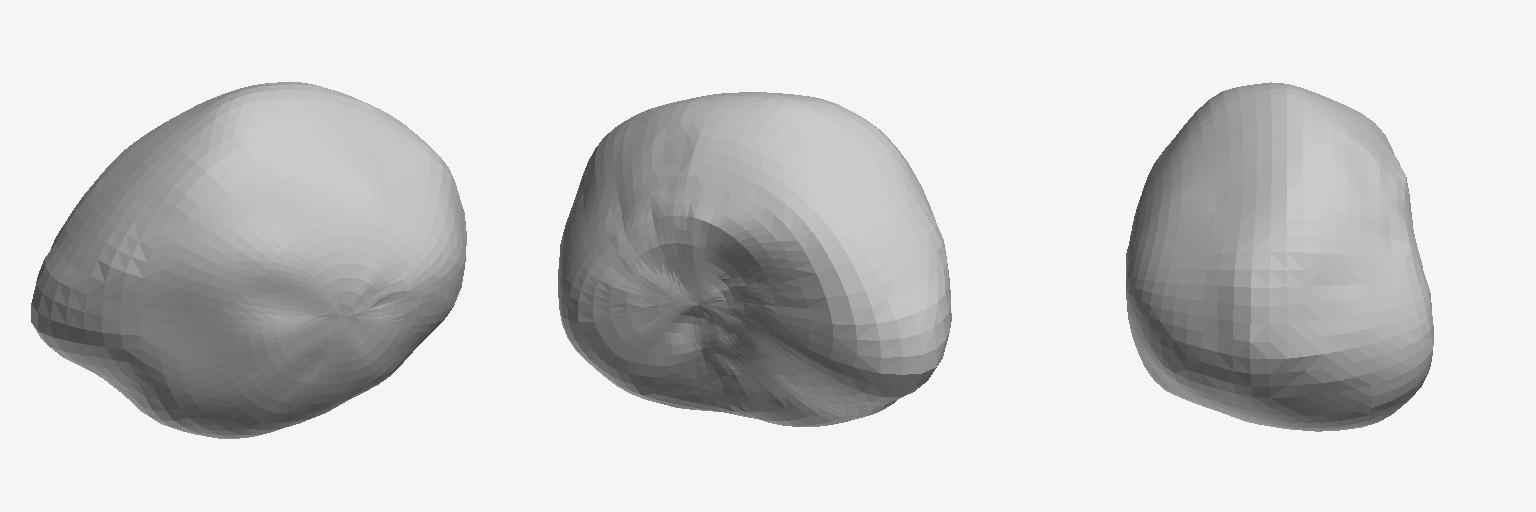
File: M2_Deimos.obj
3 views of the same model, side by side, from view 1: azimuth 30°, elevation 25°; view 2: azimuth 150°, elevation 25°; view 3: azimuth 270°, elevation 25° (orthographic).
Visible parts, largest first — view 1: M2_Deimos; view 2: M2_Deimos; view 3: M2_Deimos.
Part boxes in pixels (x1,y1,x2,y2): M2_Deimos: (31, 82, 466, 438); M2_Deimos: (558, 92, 951, 426); M2_Deimos: (1126, 82, 1433, 431).
Size of the model in its own units: 2.65 by 2.09 by 1.83.